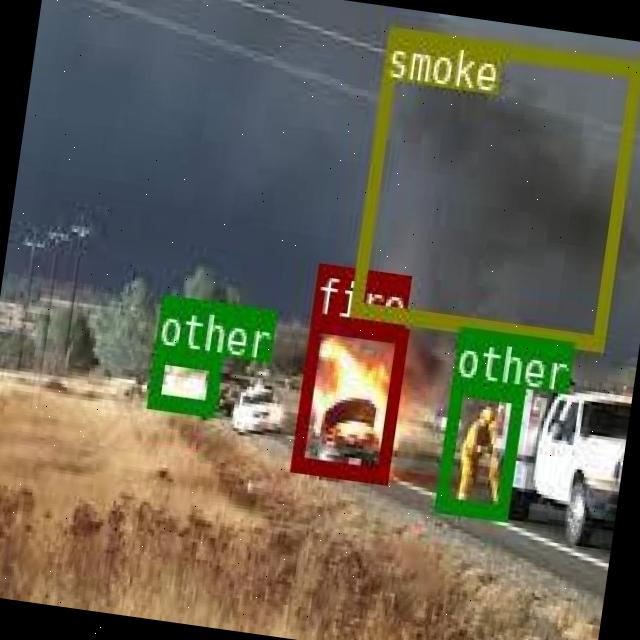fire: (290, 314, 406, 480)
smoke: (349, 24, 640, 346)
